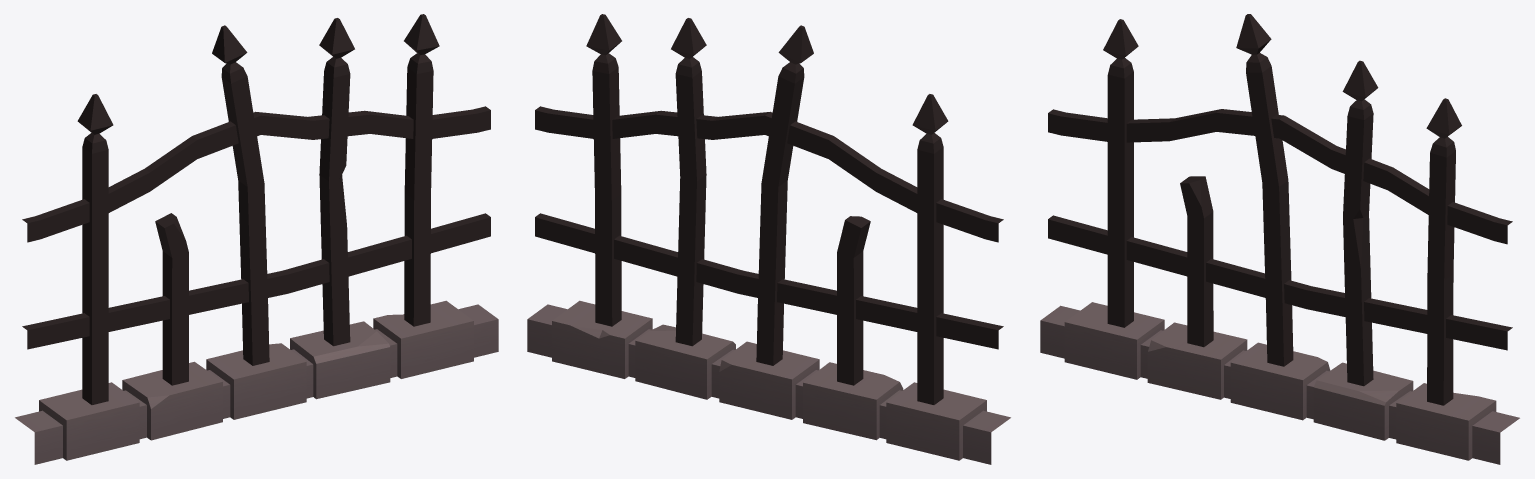
File: fenceASection3.glb
3 views of the same model, side by side, from view 1: azimuth 30°, elevation 25°; view 2: azimuth 150°, elevation 25°; view 3: azimuth 330°, elevation 25° (orthographic).
Visible parts, largest first — view 1: fenceASection3; view 2: fenceASection3; view 3: fenceASection3.
Part boxes in pixels (<box>): fenceASection3: <box>15,14,498,464</box>; fenceASection3: <box>527,14,1010,464</box>; fenceASection3: <box>1040,14,1519,464</box>.
Size of the model in its own units: 2.71 by 2.14 by 0.2921.
1 material, 1 textured.
